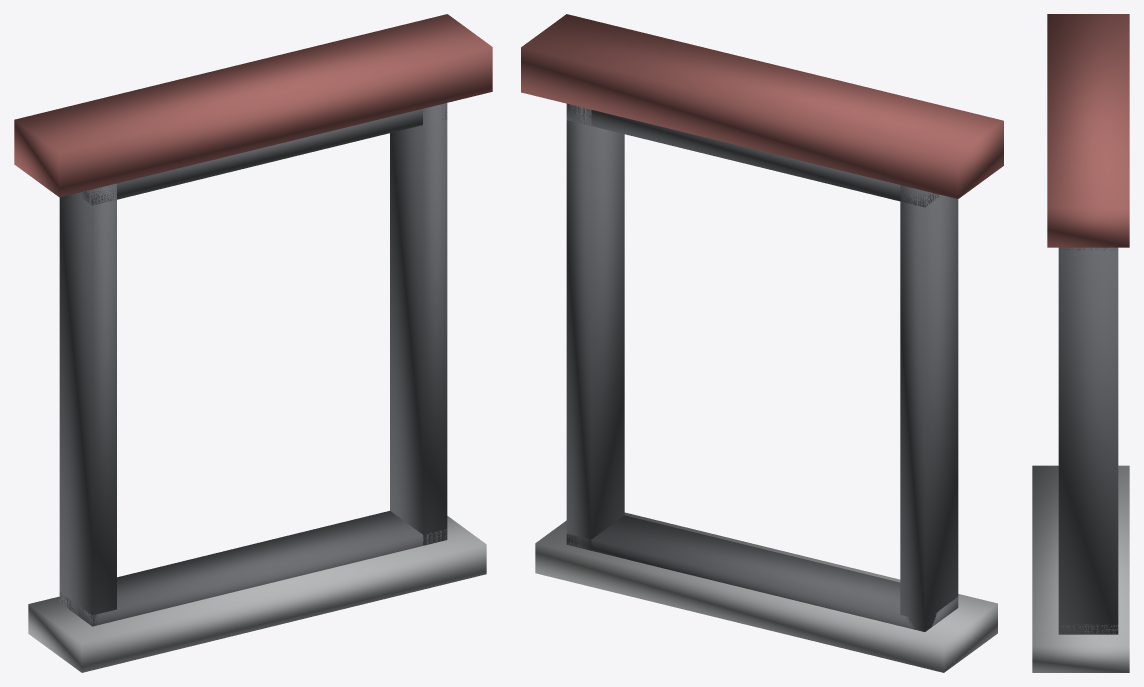
Rendered from egress_window_brick_w86_h110_s88_d16.glb.
3 views of the same model, side by side, from view 1: azimuth 30°, elevation 25°; view 2: azimuth 150°, elevation 25°; view 3: azimuth 270°, elevation 25° (orthographic). The views are drawn at different scales.
Parts seen in each view (by area): view 1: world; view 2: world; view 3: world.
Part boxes in pixels (bbox=[...]): world: bbox=[14, 14, 492, 672]; world: bbox=[521, 14, 1003, 672]; world: bbox=[1032, 14, 1129, 672].
Bounding box in the file's own units: 1.22 × 1.39 × 0.26.
